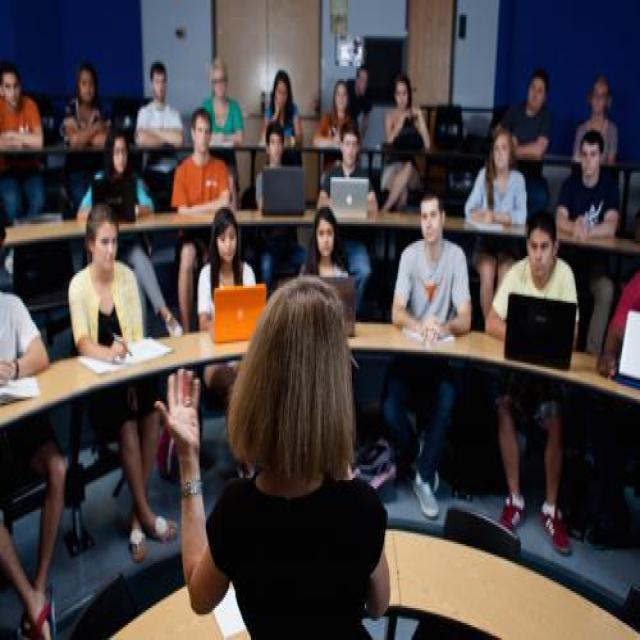head: (251, 280, 347, 470), (80, 202, 122, 280), (522, 209, 556, 277), (414, 188, 446, 245), (208, 205, 236, 264), (309, 205, 339, 260), (100, 119, 128, 173), (576, 128, 603, 179), (185, 106, 212, 154), (488, 119, 512, 173), (205, 53, 229, 98), (146, 56, 168, 104), (336, 117, 358, 162), (524, 66, 546, 109), (329, 73, 351, 115), (272, 64, 290, 113), (389, 68, 410, 109), (586, 72, 608, 111), (73, 58, 93, 100), (264, 119, 280, 160), (351, 55, 367, 92)
